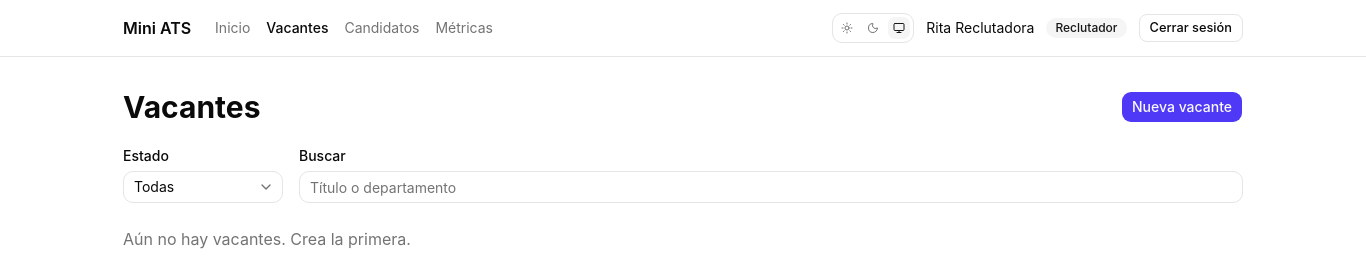
Test: JobsPage › shows a different empty state when filters match nothing
Expected: the text "Aún no hay vacantes. Crea la primera." is shown, [123,229,411,249]
Type "zzz" into the search field labelled "Buscar".
click(771, 187); type("zzz")  # box [299,171,1243,203]
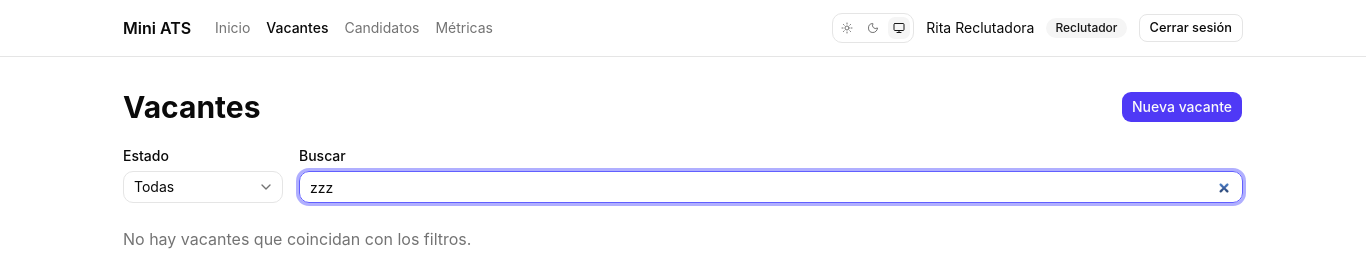
Expected: the text "No hay vacantes que coincidan con los filtros." is shown, [123,229,471,249]
